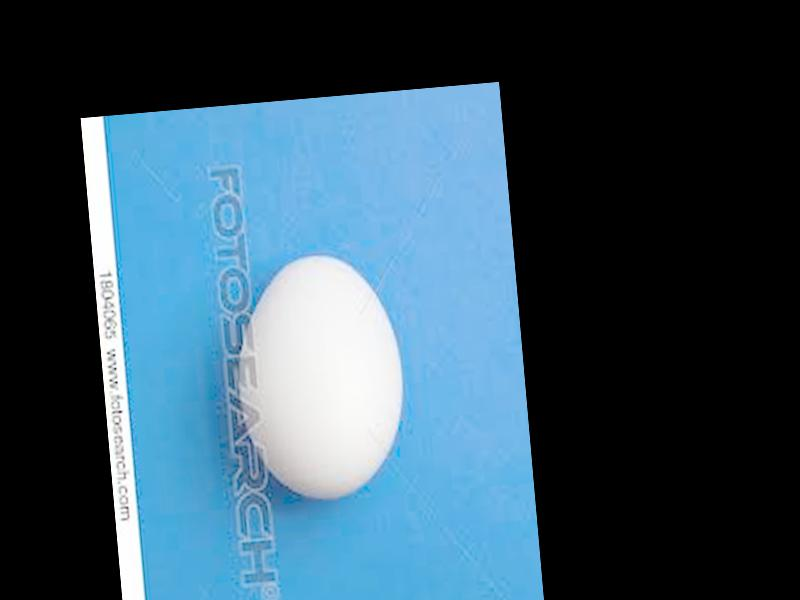Eggs: (223, 249, 411, 505)
